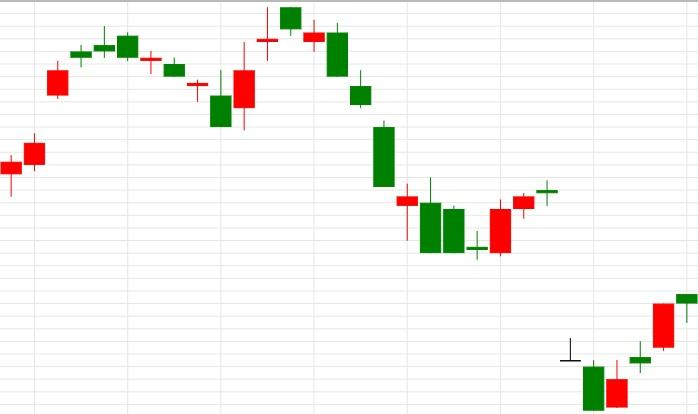morning_star_rise: (279, 6, 512, 259)
